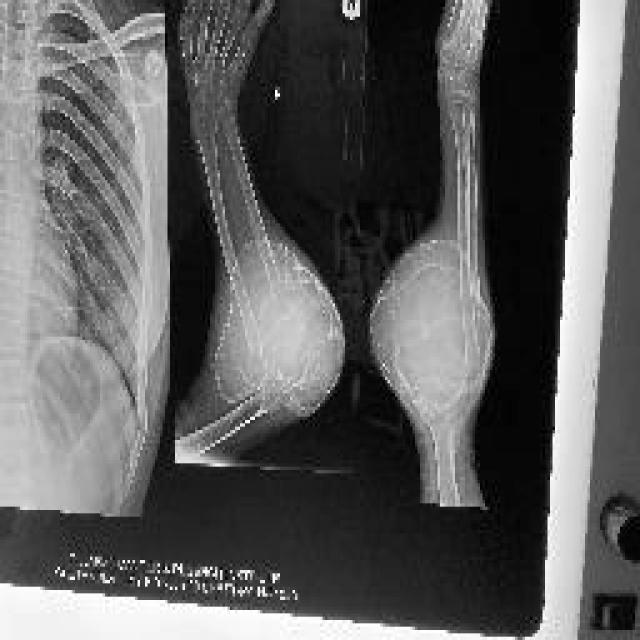bone-cancer: (371, 242, 496, 430), (216, 243, 344, 420)
